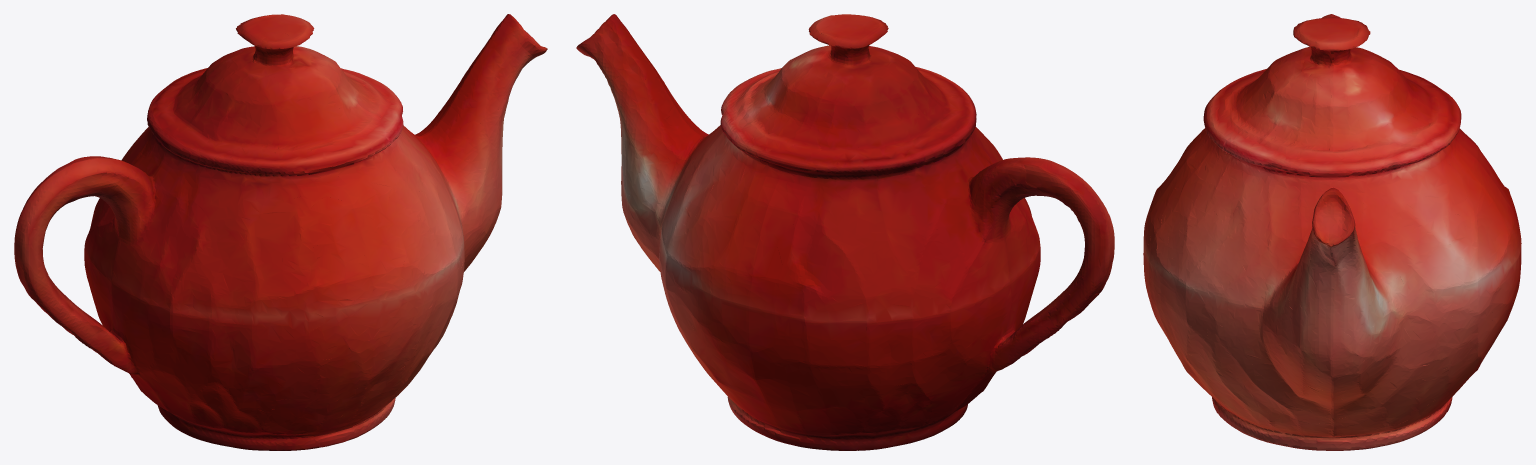
The model's file is fastsam3d.glb.
The picture shows the model from 3 angles, left to right: view 1: azimuth 30°, elevation 25°; view 2: azimuth 150°, elevation 25°; view 3: azimuth 270°, elevation 25°; orthographic projection.
Parts seen in each view (by area): view 1: geometry_0; view 2: geometry_0; view 3: geometry_0.
Boxes of the visible parts, box(x1,y1,x2,y2) form: geometry_0: box(14, 14, 547, 450); geometry_0: box(576, 14, 1114, 450); geometry_0: box(1143, 14, 1521, 450).
Size of the model in its own units: 0.6489 by 0.4416 by 0.4046.
